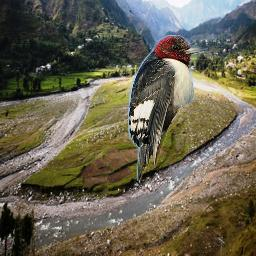Woodpecker: (128, 35, 208, 181)
